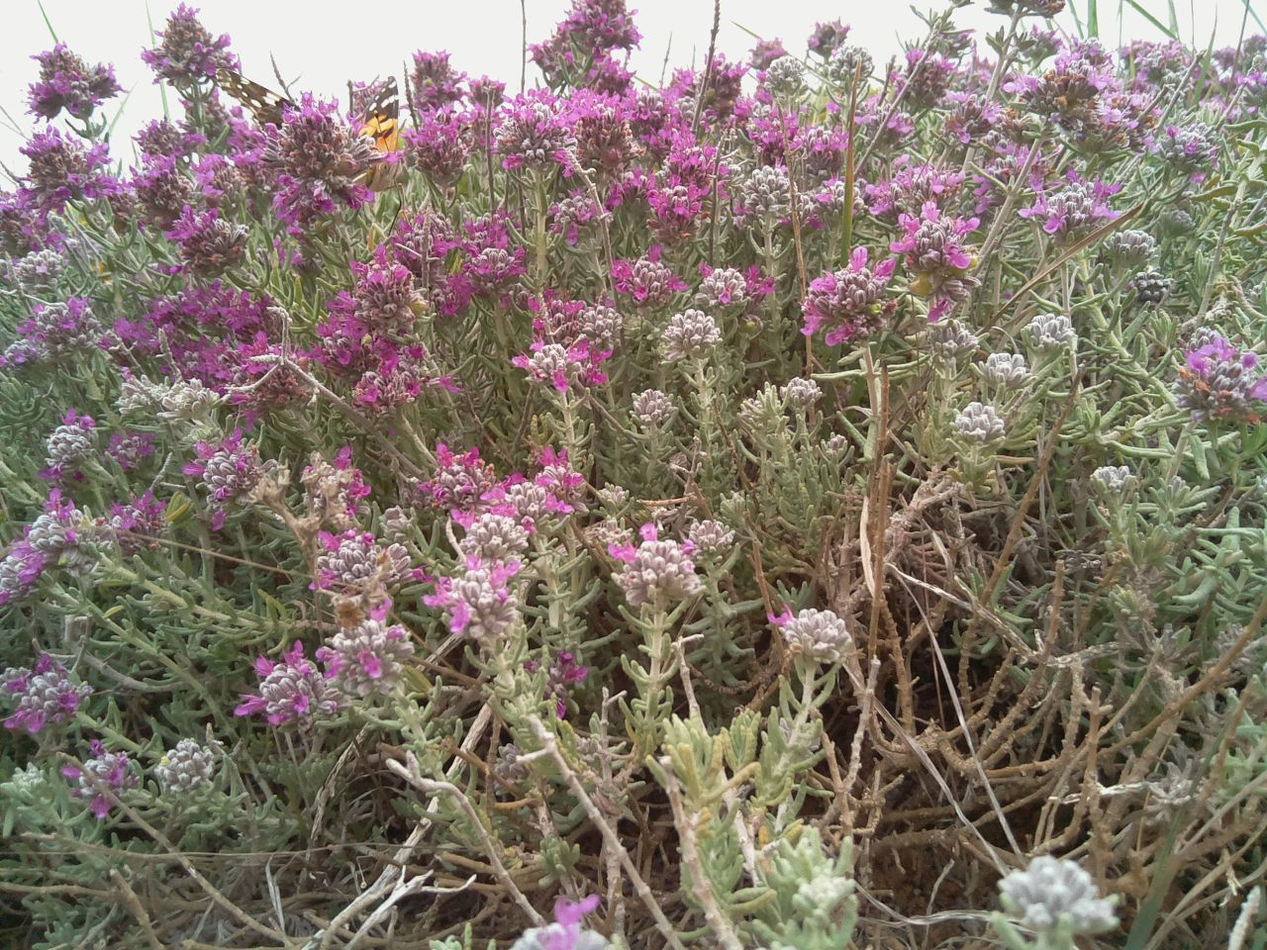Vanessa cardui: (200, 61, 430, 231)
